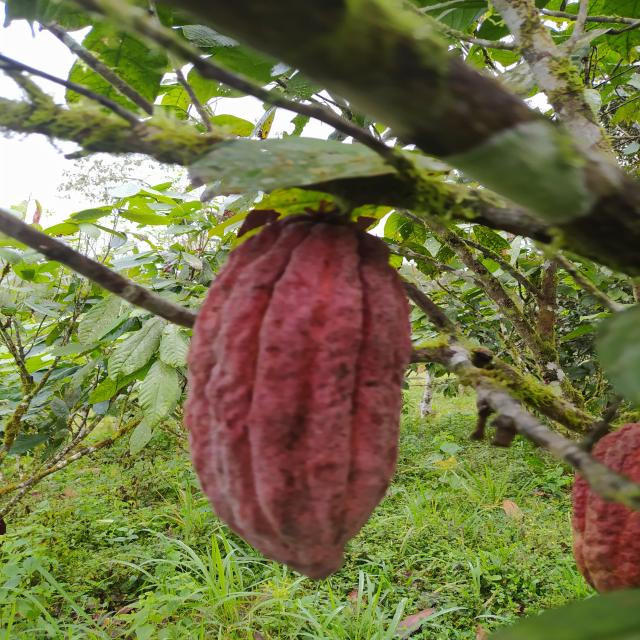Sana: (184, 215, 413, 581), (570, 415, 640, 597)
